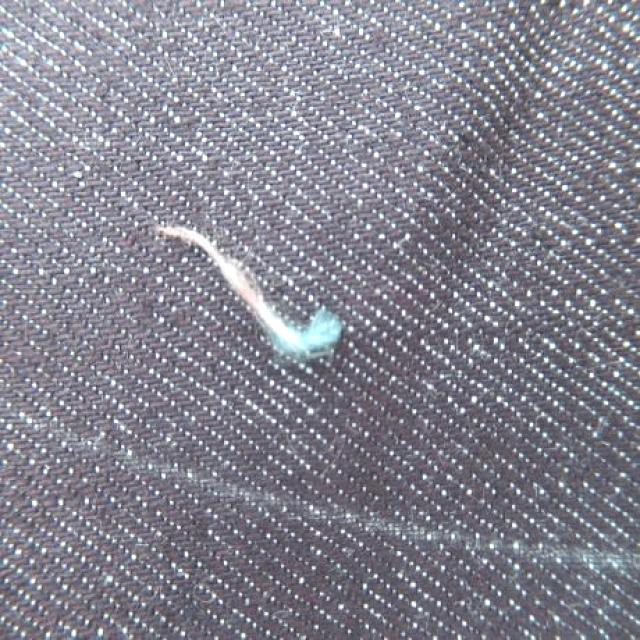Thread_other: (80, 158, 552, 440)
